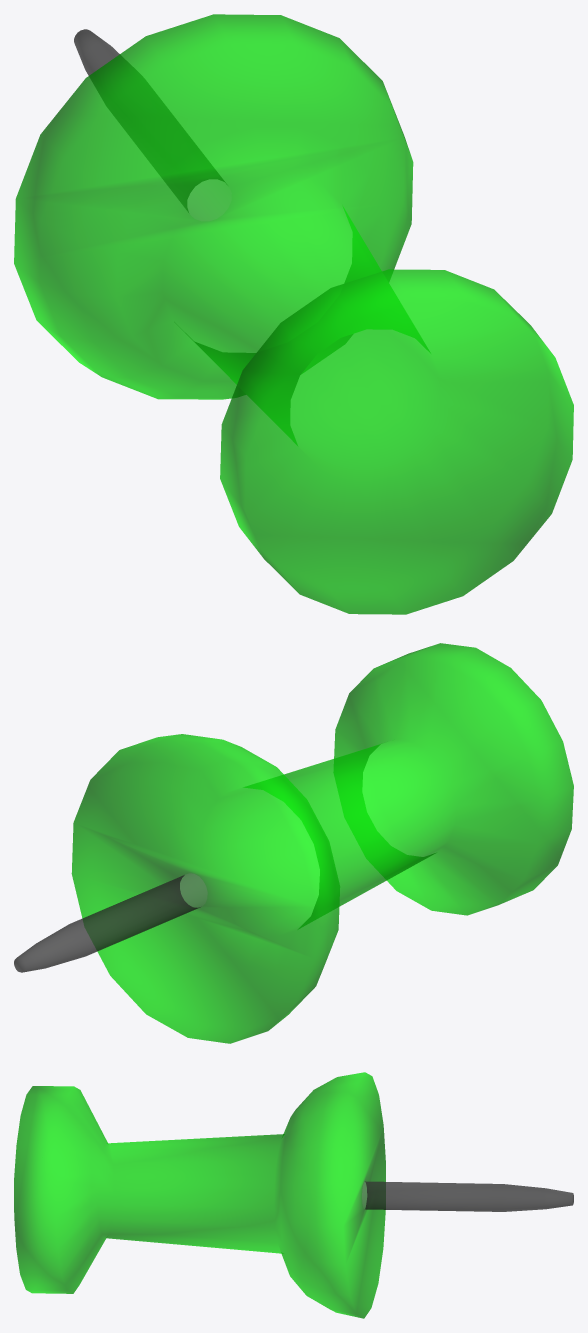
File: pin2.obj
3 renders of one model, top to bottom at view 1: azimuth 30°, elevation 25°; view 2: azimuth 150°, elevation 25°; view 3: azimuth 270°, elevation 25°, orthographic. The views are drawn at different scales.
Size of the model in its own units: 0.1048 by 0.0932 by 0.2112.
